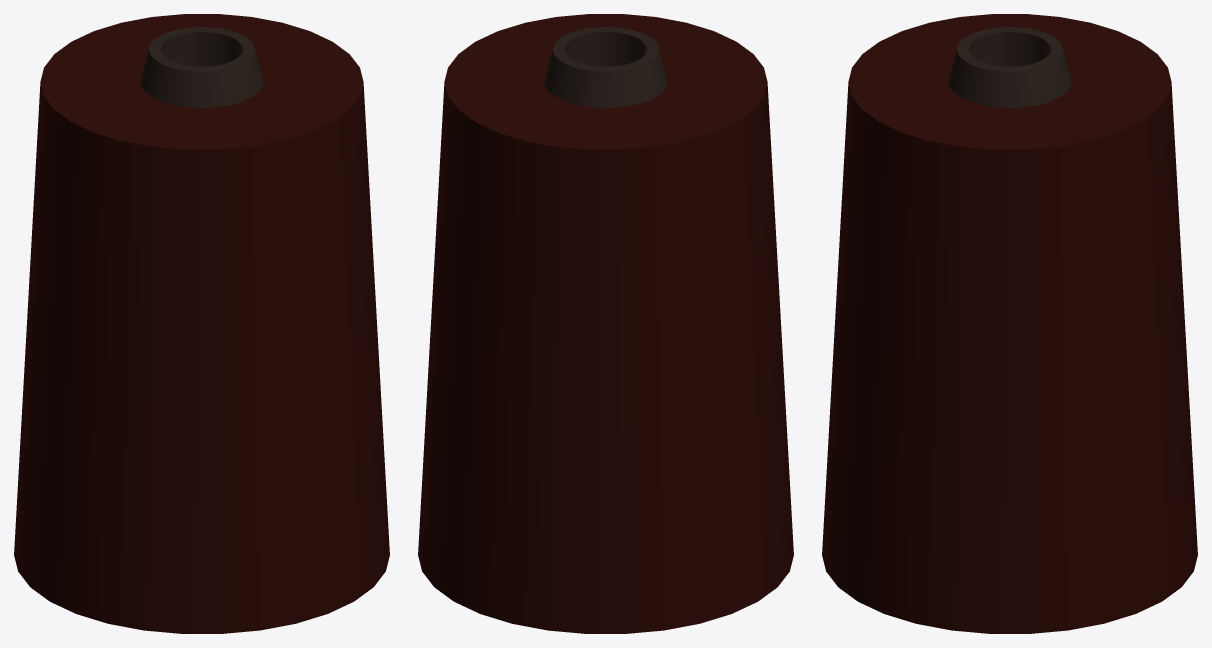
File: F_RThread_02.fbx
The picture shows the model from 3 angles, left to right: view 1: azimuth 30°, elevation 25°; view 2: azimuth 150°, elevation 25°; view 3: azimuth 270°, elevation 25°; orthographic projection.
Visible parts, largest first — view 1: F_RedThread_02; view 2: F_RedThread_02; view 3: F_RedThread_02.
Boxes of the visible parts, x1=… form: F_RedThread_02: x1=14, y1=14, x2=389, y2=633; F_RedThread_02: x1=418, y1=14, x2=793, y2=633; F_RedThread_02: x1=822, y1=14, x2=1197, y2=633.
Size of the model in its own units: 15.04 by 22.45 by 15.13.
